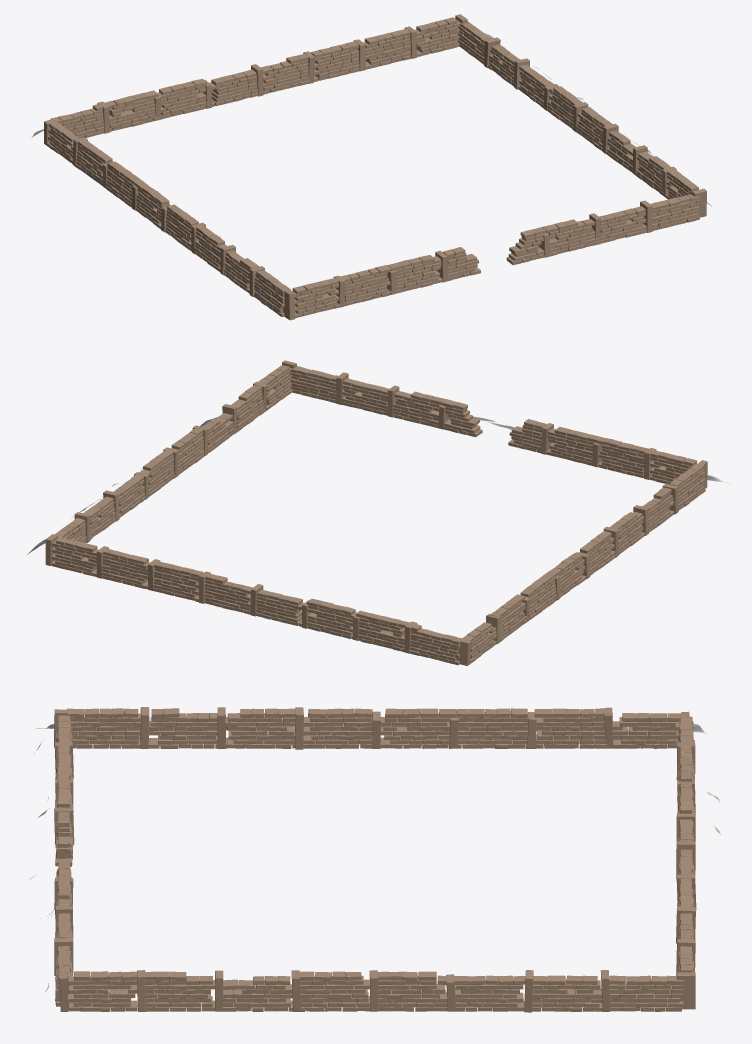
File: muros.glb
The picture shows the model from 3 angles, top to bottom: view 1: azimuth 30°, elevation 25°; view 2: azimuth 150°, elevation 25°; view 3: azimuth 270°, elevation 25°; orthographic projection. The views are drawn at different scales.
Parts seen in each view (by area): view 1: Muros_Perimetrales; view 2: Muros_Perimetrales; view 3: Muros_Perimetrales.
Part boxes in pixels (x1=…): Muros_Perimetrales: x1=44, y1=14, x2=706, y2=320; Muros_Perimetrales: x1=45, y1=360, x2=707, y2=665; Muros_Perimetrales: x1=54, y1=707, x2=696, y2=1012.
Size of the model in its own units: 105 by 5.68 by 105.
